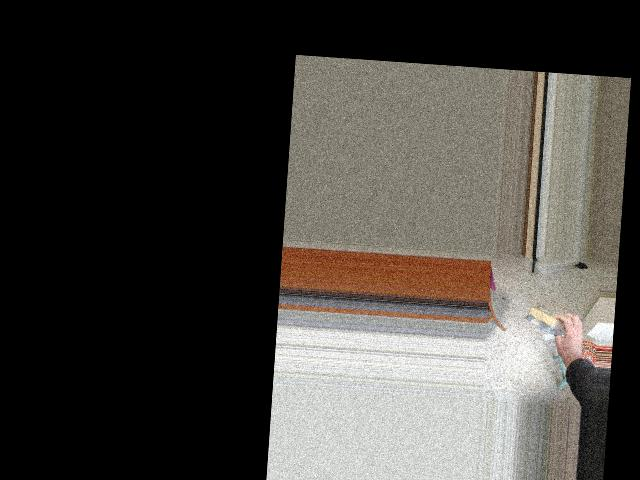cheese: (520, 302, 576, 341)
